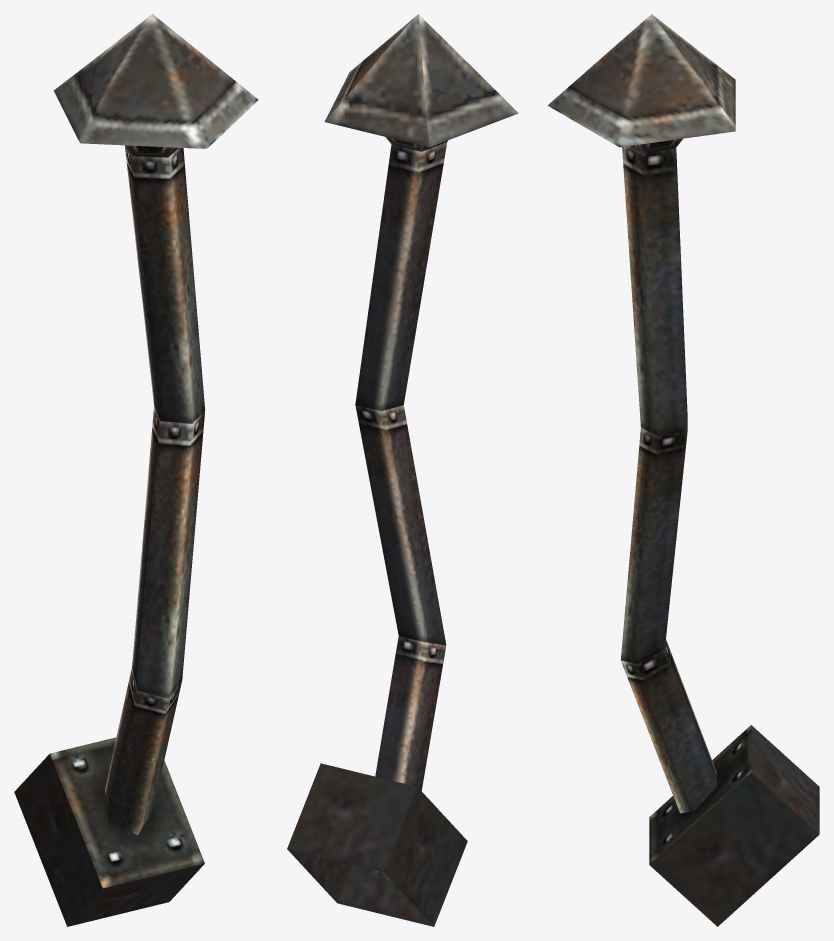
File: loc2_31.glb
3 renders of one model, left to right at view 1: azimuth 30°, elevation 25°; view 2: azimuth 150°, elevation 25°; view 3: azimuth 270°, elevation 25°, orthographic. The views are drawn at different scales.
Visible parts, largest first — view 1: loc2_31-col; view 2: loc2_31-col; view 3: loc2_31-col.
Boxes of the visible parts, x1,y1,x2,y2 form: loc2_31-col: [14, 14, 258, 926]; loc2_31-col: [287, 14, 518, 926]; loc2_31-col: [547, 14, 819, 926].
Bounding box in the file's own units: 1.22 × 6.03 × 1.67.
1 material, 1 textured.
